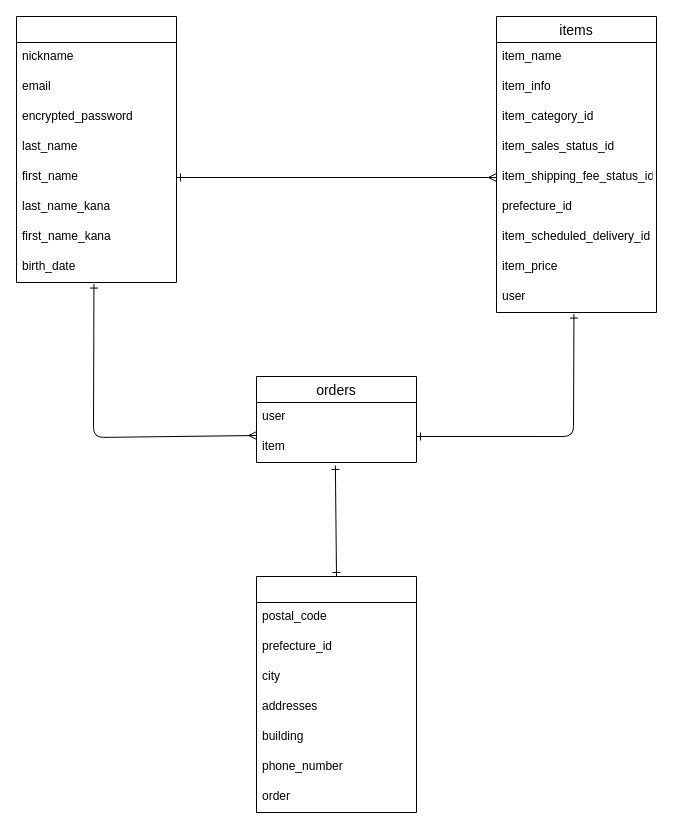
Some shapes in this 673 by 829 pixel diagram are drawn without their labels. The box of each missing label's shape, as (x1, y1, x2, y2) in pixels:
shipping_addresses: (256, 576, 416, 812)
users: (16, 16, 176, 282)
